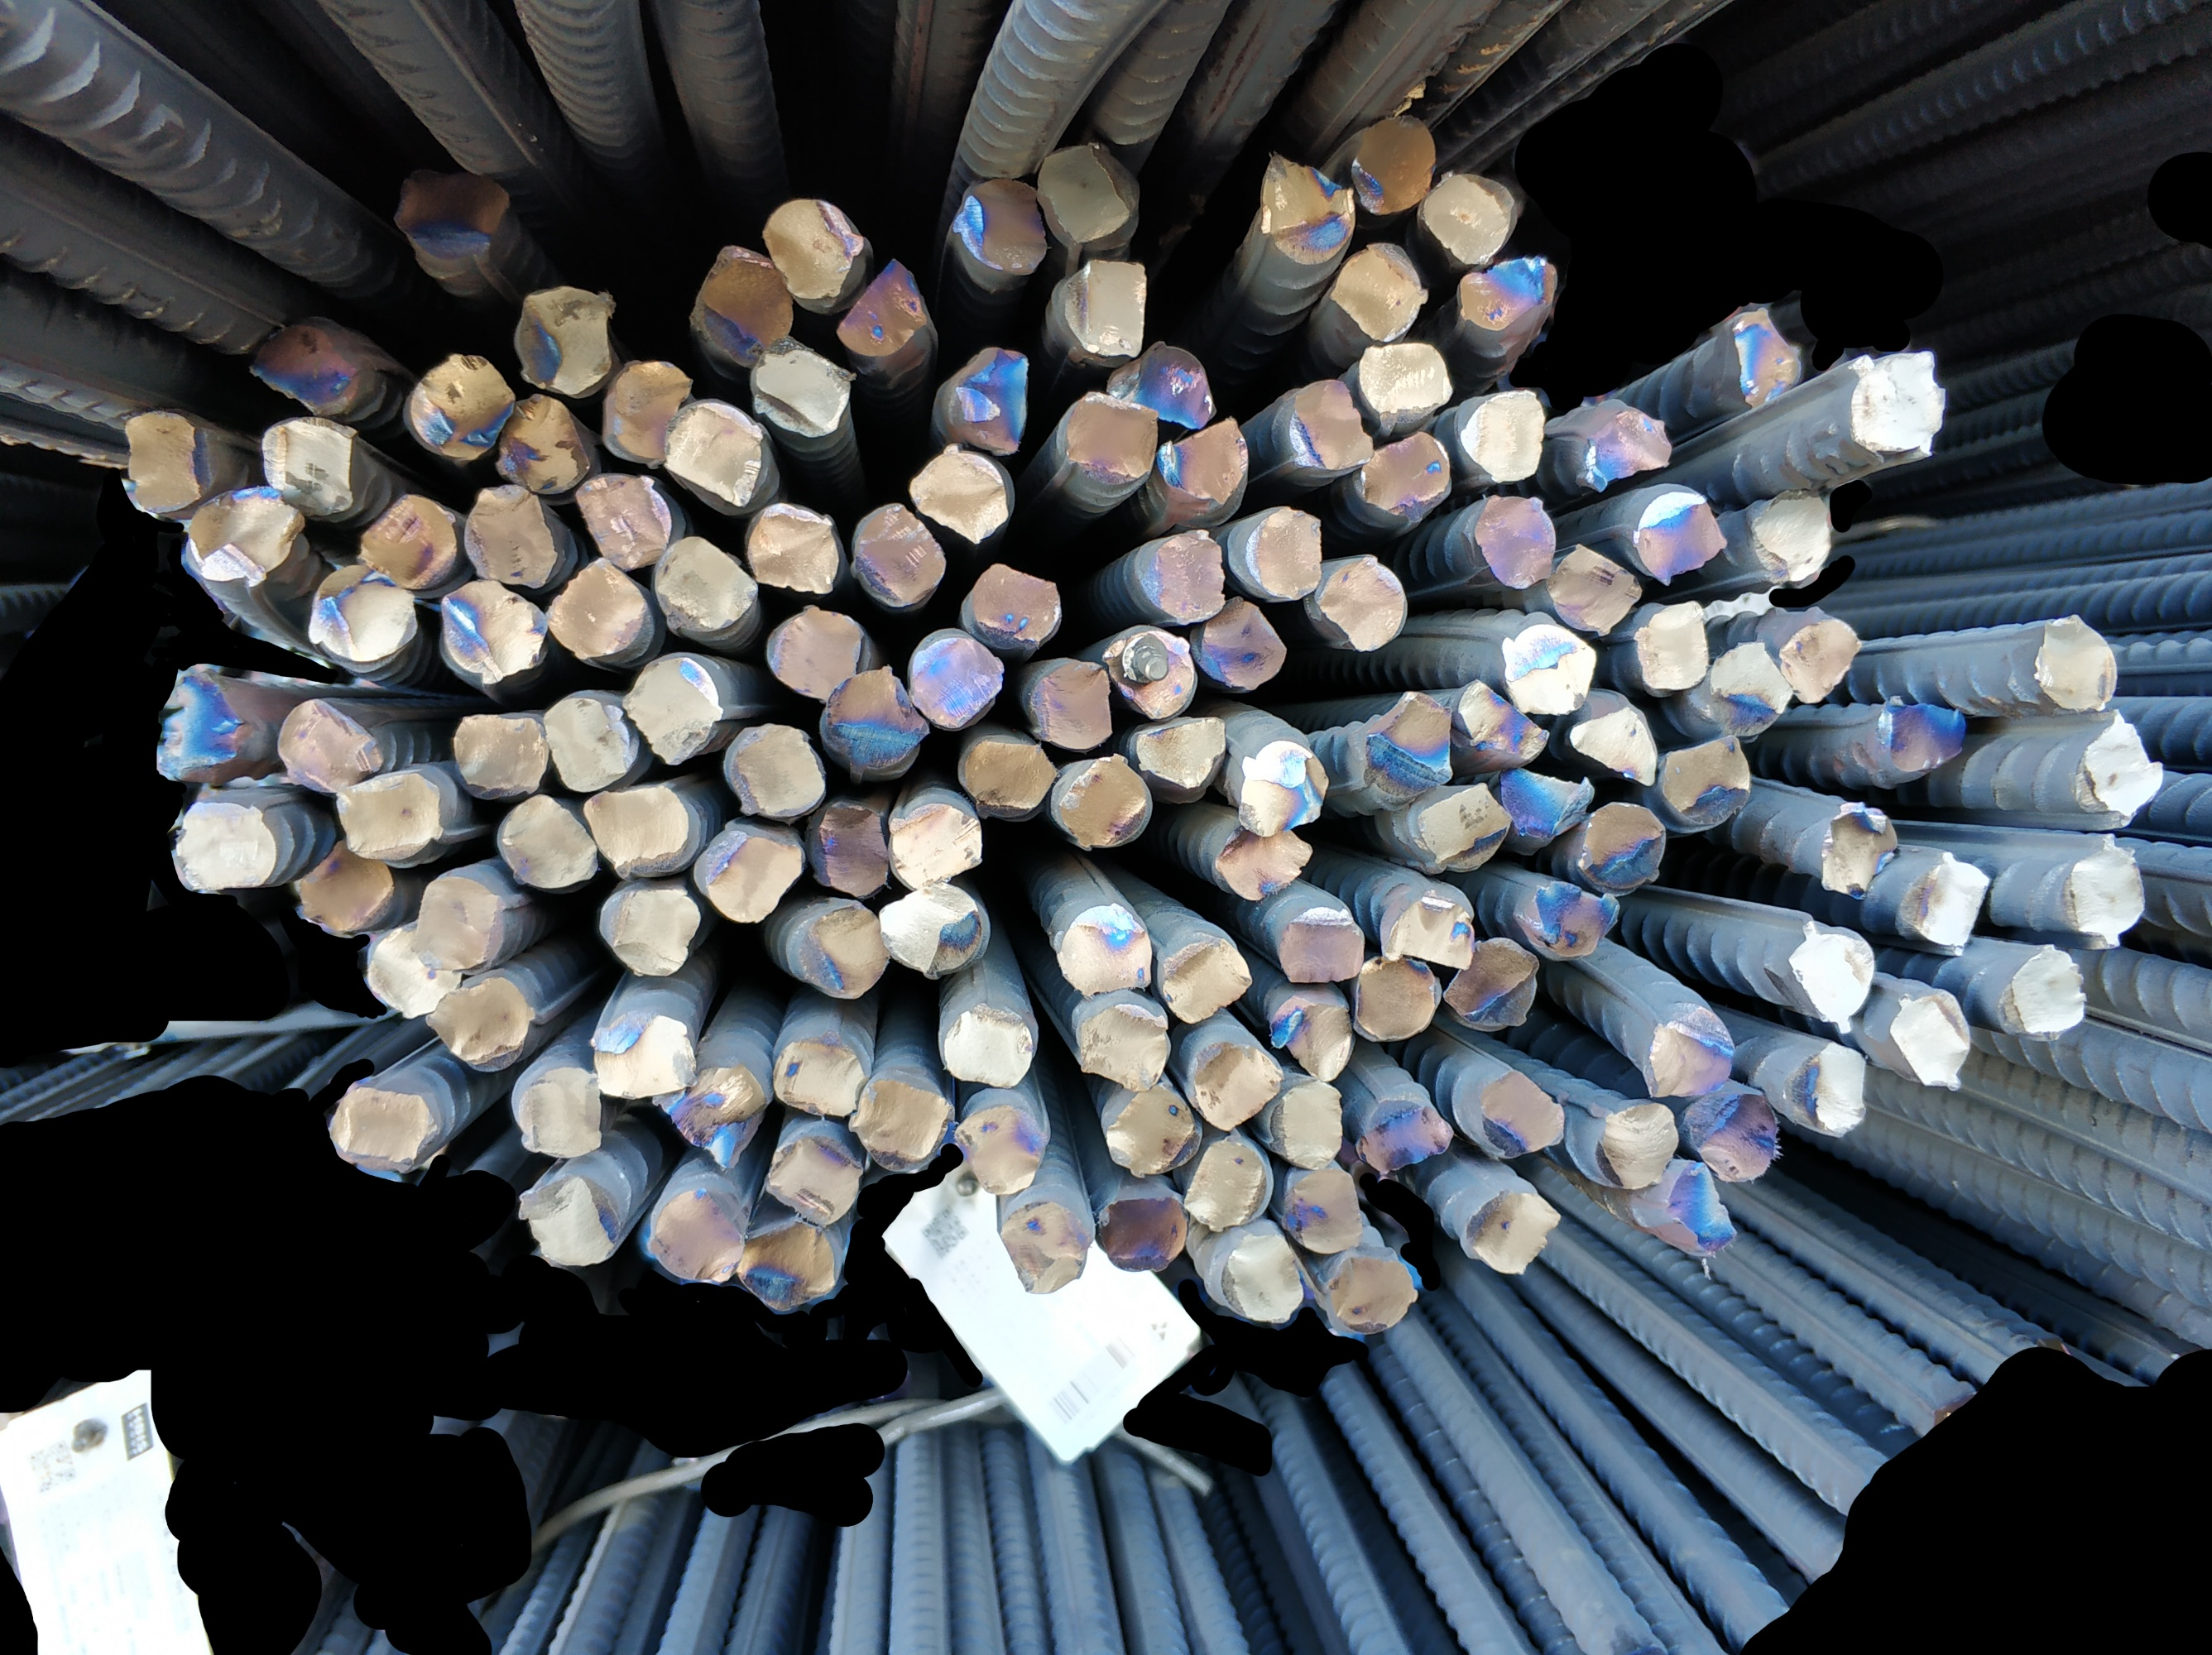rebar: (685, 240, 798, 367), (822, 664, 928, 782), (664, 395, 768, 515), (302, 560, 421, 664), (405, 344, 511, 459), (391, 165, 507, 269), (1785, 913, 1880, 1040), (652, 1060, 758, 1172), (624, 654, 725, 770), (189, 483, 308, 582), (540, 556, 650, 662), (763, 193, 867, 304), (513, 282, 613, 396), (1037, 139, 1142, 247), (751, 336, 853, 445), (1685, 635, 1795, 737), (591, 1003, 702, 1104), (878, 880, 992, 977), (942, 341, 1037, 457), (440, 575, 544, 681), (245, 318, 365, 410), (1260, 150, 1357, 263), (295, 834, 400, 939), (730, 1215, 841, 1313), (424, 974, 537, 1069), (1107, 339, 1222, 433), (276, 694, 379, 798), (645, 1182, 747, 1286), (949, 172, 1051, 276), (1630, 478, 1729, 586), (1847, 348, 1946, 455), (334, 767, 445, 862), (905, 629, 1008, 732), (493, 391, 594, 495), (655, 532, 759, 633), (846, 1076, 950, 1177), (575, 468, 674, 574), (907, 445, 1013, 544), (462, 480, 558, 589), (255, 412, 358, 513), (174, 794, 275, 897), (702, 826, 805, 927), (594, 883, 700, 980), (1043, 753, 1150, 848), (1364, 688, 1460, 796), (1896, 848, 1990, 958), (325, 1081, 440, 1170), (796, 901, 895, 1003), (497, 794, 601, 892), (1055, 257, 1152, 362), (1423, 163, 1520, 268), (726, 721, 827, 821), (766, 603, 865, 704), (1498, 619, 1599, 718), (354, 494, 457, 591), (518, 1173, 620, 1271), (884, 798, 989, 894), (836, 254, 930, 360), (1329, 242, 1427, 342), (584, 784, 692, 874), (1573, 400, 1679, 490), (153, 671, 242, 779), (118, 403, 205, 513), (605, 355, 690, 466), (744, 501, 841, 598), (1154, 412, 1249, 511), (1190, 1034, 1284, 1135), (851, 501, 944, 603), (361, 928, 467, 1017), (1997, 942, 2092, 1040), (1053, 902, 1152, 996), (410, 871, 502, 972), (1571, 692, 1663, 793), (1237, 737, 1329, 838), (1414, 779, 1515, 871), (1519, 871, 1621, 961), (1350, 111, 1439, 216), (2087, 709, 2169, 822), (1812, 798, 1899, 904), (542, 695, 638, 791), (1105, 1081, 1199, 1179), (1135, 527, 1229, 624), (1661, 734, 1758, 827), (1460, 384, 1550, 485), (763, 1135, 860, 1227), (1682, 1088, 1779, 1180), (1776, 612, 1866, 711), (1199, 595, 1288, 695), (1350, 336, 1456, 419), (2070, 833, 2144, 951), (1446, 932, 1538, 1027), (1058, 389, 1156, 480), (1319, 555, 1409, 652), (957, 732, 1058, 819), (2033, 610, 2120, 711), (1074, 1001, 1171, 1090), (1103, 622, 1192, 720), (1289, 374, 1376, 473), (450, 709, 551, 794), (1474, 487, 1559, 588), (954, 1100, 1044, 1194), (1185, 1137, 1274, 1233), (1465, 1187, 1560, 1276), (1891, 987, 1972, 1090), (1576, 798, 1668, 888), (1324, 1250, 1418, 1339), (940, 1003, 1036, 1090), (1456, 678, 1552, 765), (1216, 1229, 1303, 1325), (999, 1194, 1084, 1292), (1027, 659, 1116, 751), (1548, 542, 1637, 635), (1161, 935, 1255, 1022), (1213, 824, 1317, 902), (770, 1034, 865, 1120), (1244, 504, 1328, 602), (1498, 761, 1597, 843), (1357, 1092, 1458, 1172), (1729, 304, 1807, 407), (1791, 1034, 1870, 1137), (1133, 713, 1232, 793), (1454, 252, 1553, 332), (520, 1067, 606, 1158), (815, 796, 891, 899), (1357, 428, 1451, 511), (1753, 489, 1837, 582), (1355, 951, 1442, 1040), (1592, 1097, 1679, 1186), (1380, 888, 1474, 970), (1665, 1160, 1741, 1259), (971, 560, 1060, 645), (1644, 1015, 1734, 1099), (1281, 1168, 1366, 1255), (1482, 1067, 1566, 1156), (1270, 991, 1352, 1081), (1877, 695, 1967, 777), (1275, 902, 1361, 986), (1637, 598, 1713, 690), (1098, 1191, 1183, 1273), (1272, 1081, 1345, 1172)
